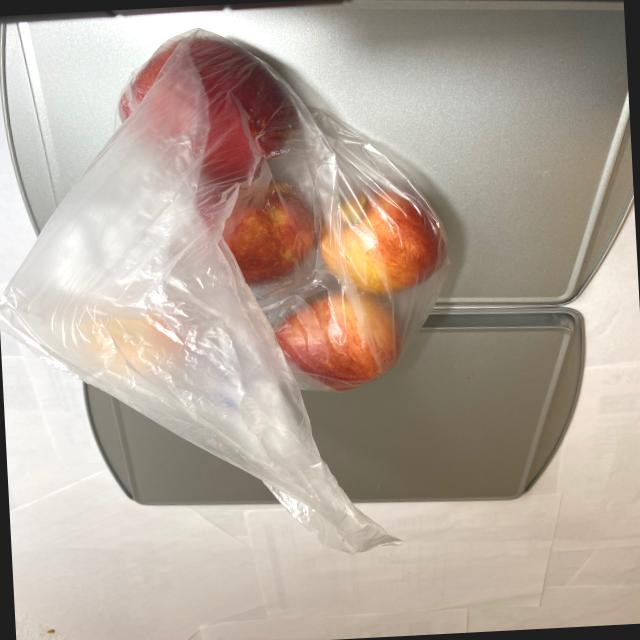apple: (106, 16, 458, 416)
